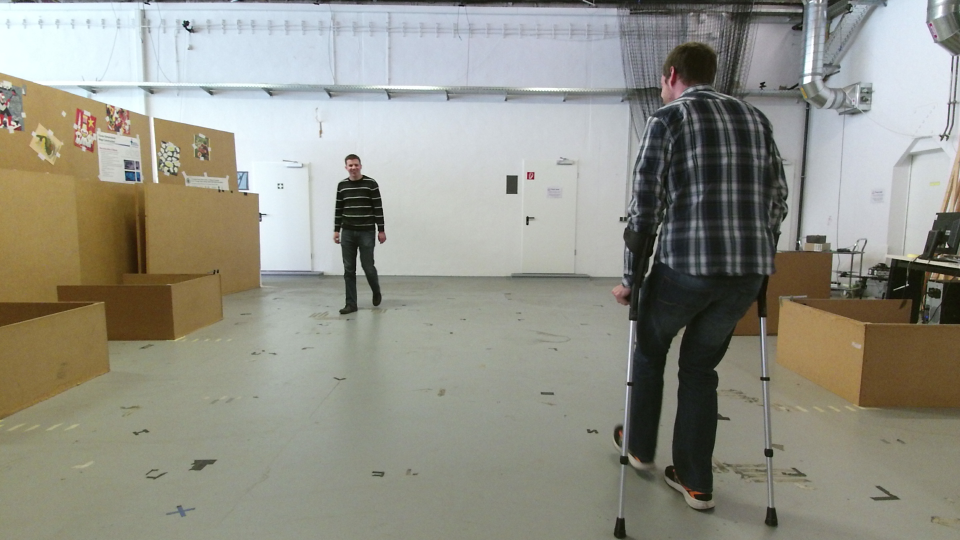crutches: (601, 38, 792, 540)
